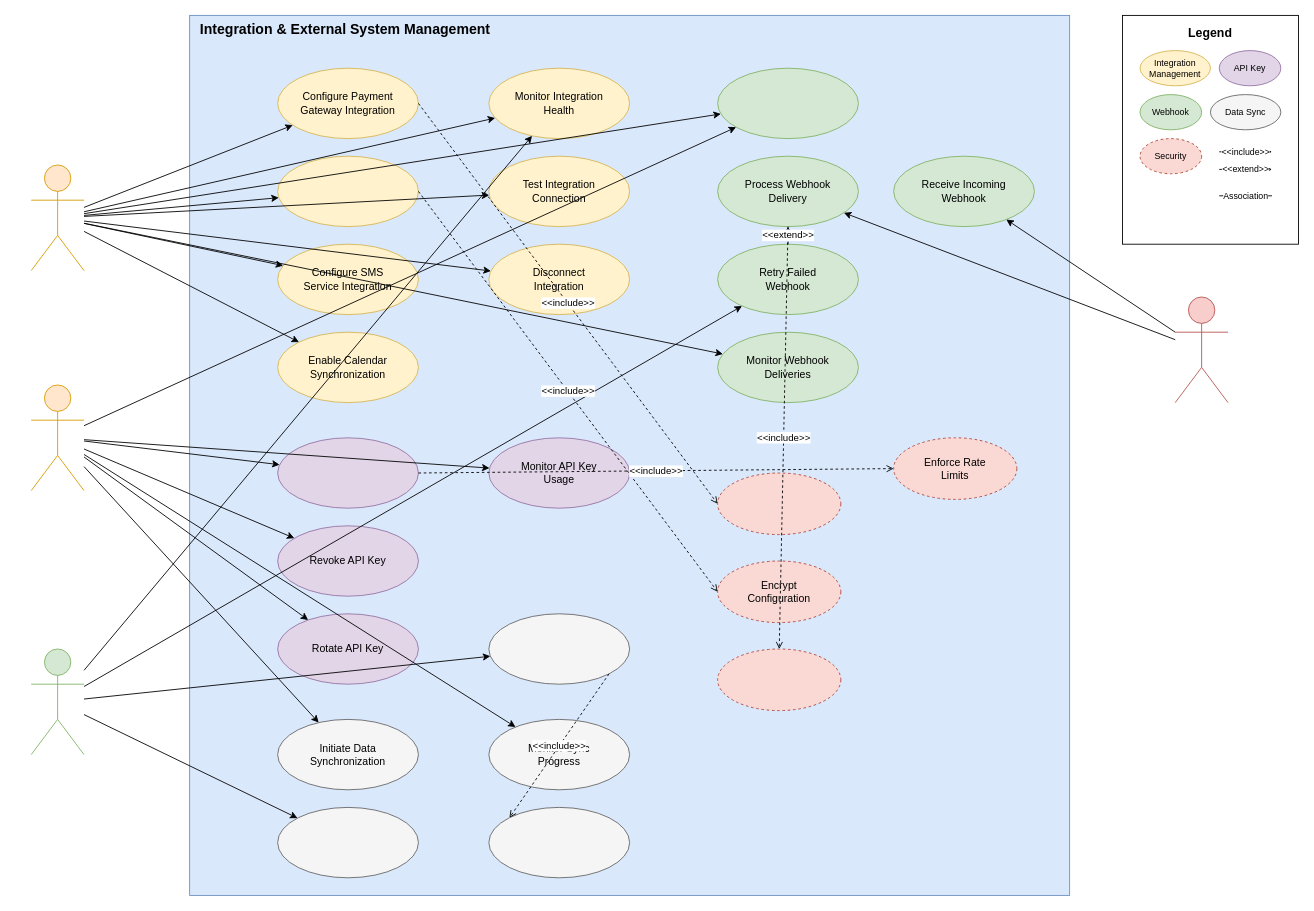
Some shapes in this 1314 by 911 pixel diagram are drawn without their labels. Each missing label, with the centre of its shape:
Administrator: (x=57, y=217)
Audit Logging: (x=779, y=679)
Configure Email Service Integration: (x=347, y=191)
Create Webhook Subscription: (x=787, y=103)
Developer: (x=57, y=437)
Execute Data Sync Job: (x=559, y=648)
External System: (x=1201, y=349)
Generate API Key: (x=347, y=472)
Handle Sync Errors: (x=559, y=842)
Schedule Automatic Sync: (x=347, y=842)
System Scheduler: (x=57, y=701)
Validate Credentials: (x=779, y=503)
